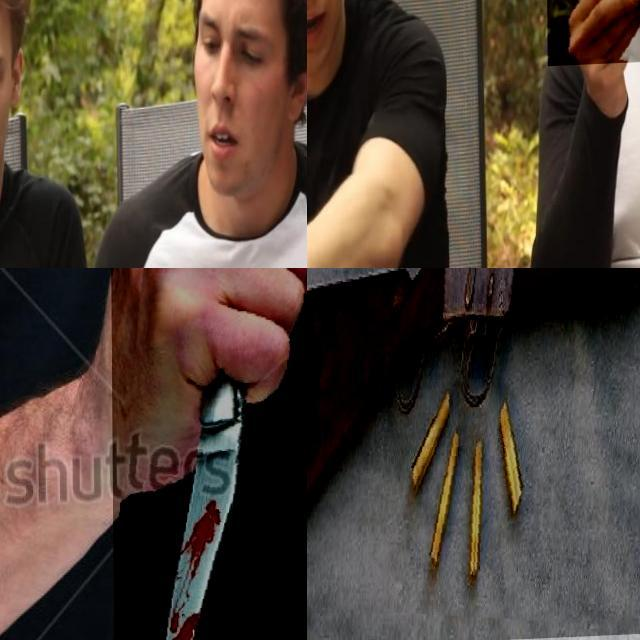-: (110, 268, 307, 640), (546, 0, 640, 85)
gun-knife-thesis - v11 Yolov5 augmented: (307, 268, 640, 640)
